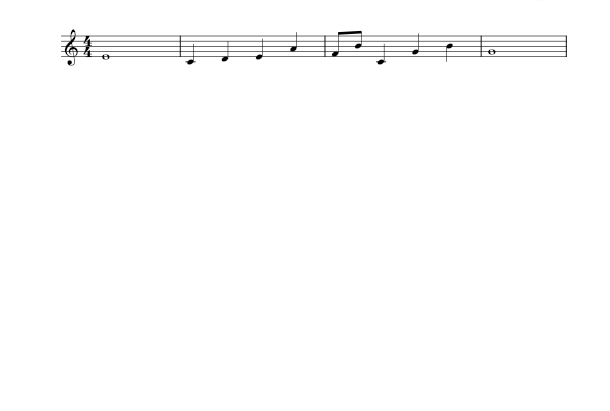Treble Clef: (59, 22, 82, 71)
